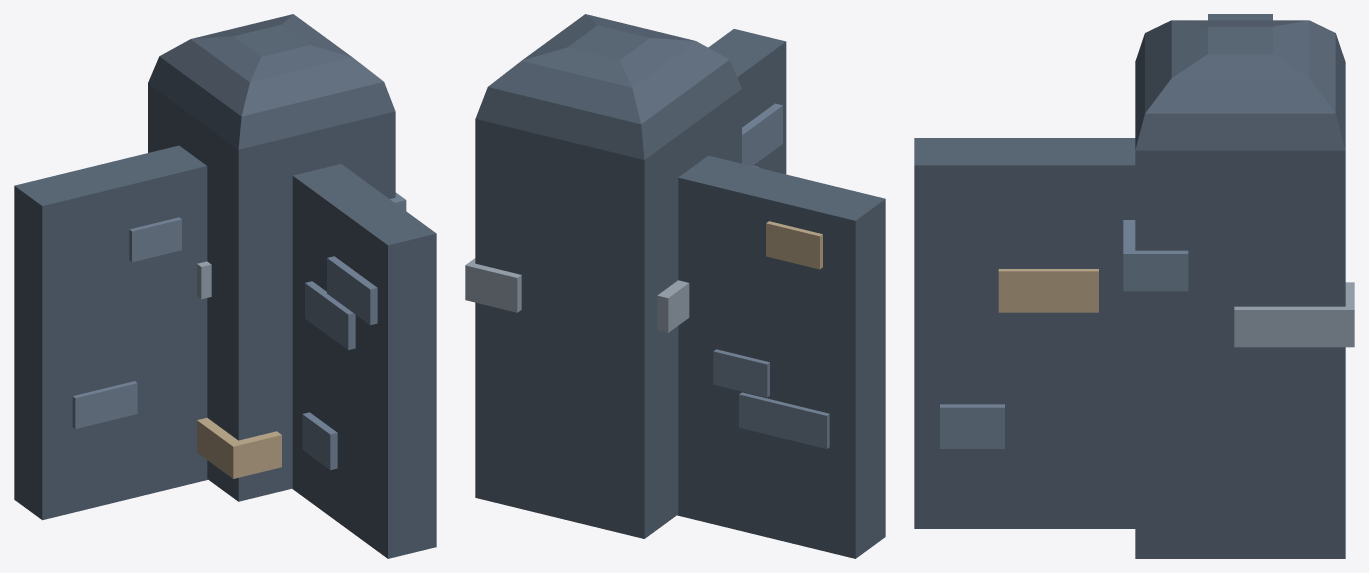
Rendered from wall6.fbx.
3 renders of one model, left to right at view 1: azimuth 30°, elevation 25°; view 2: azimuth 150°, elevation 25°; view 3: azimuth 270°, elevation 25°, orthographic. The views are drawn at different scales.
Visible parts, largest first — view 1: wall6; view 2: wall6; view 3: wall6.
Boxes of the visible parts, <box> form: wall6: <box>14,14,436,558</box>; wall6: <box>465,14,885,558</box>; wall6: <box>914,14,1354,558</box>.
Bounding box in the file's own units: 135 × 161 × 135.
